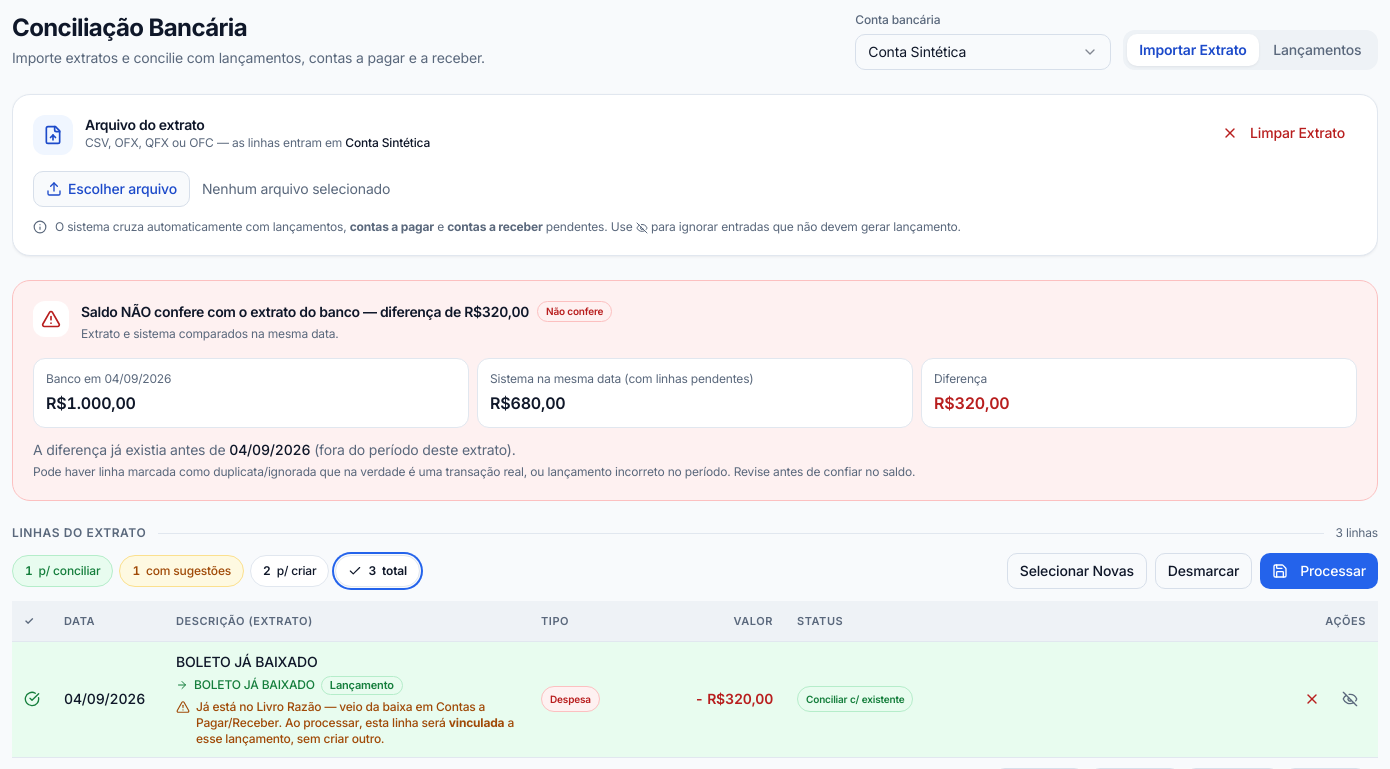
Scenario: Conciliação Bancária — visão Importar (rascunho restaurado) › chips com as mesmas contagens, banner pela regra de antes e nenhuma escrita ao abrir
This screenshot has width=1390, height=769.
Expected: the text "Já está no Livro Razão — veio da baixa em Contas a Pagar/Receber." is shown, top-left (196, 699), bottom-right (485, 730)
Expected: the message shows "Sistema na mesma data (com linhas pendentes)", top-left (490, 371), bottom-right (754, 386)
Click the button "1 p/ conciliar". click: (63, 571)
box: top-left (12, 555), bottom-right (113, 587)
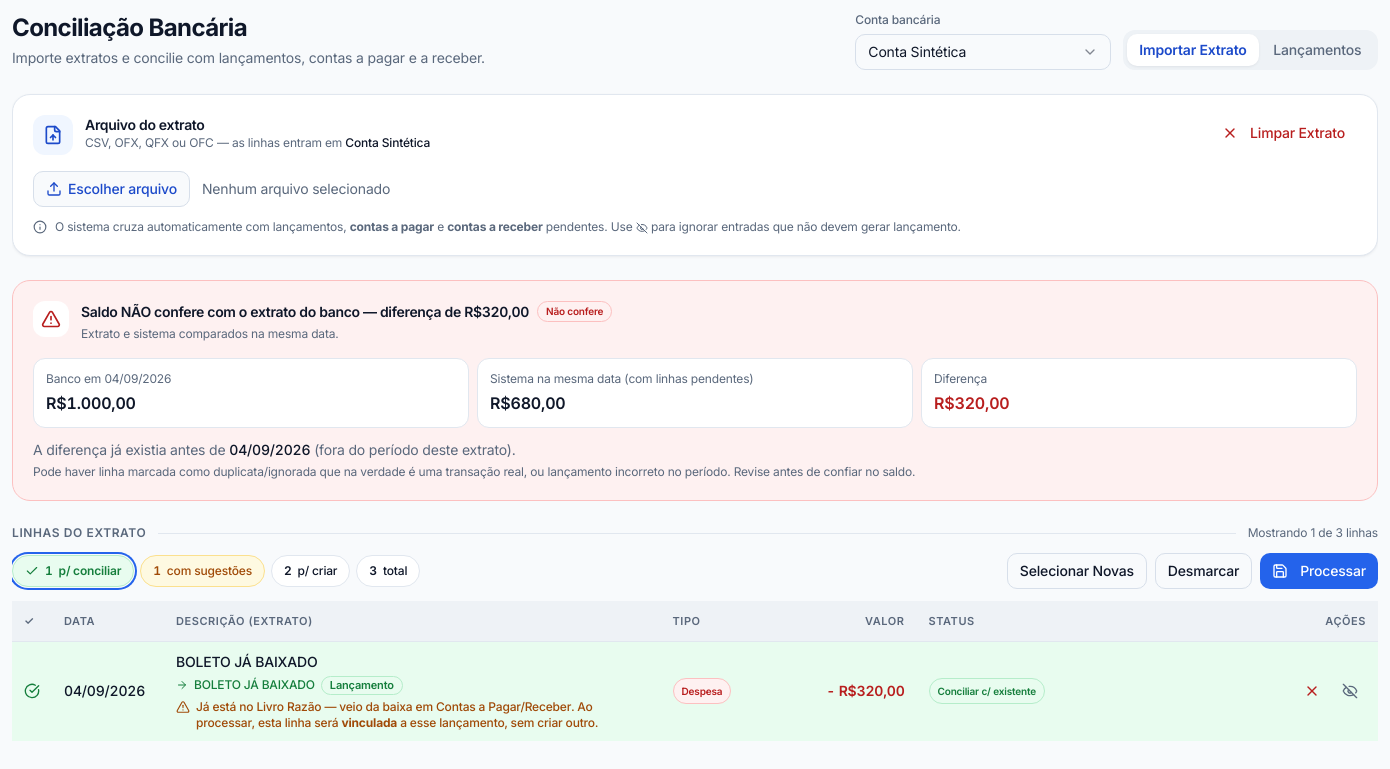
Now the text "Mostrando 1 de 3 linhas" is shown, box top-left (1248, 525), bottom-right (1378, 541)
